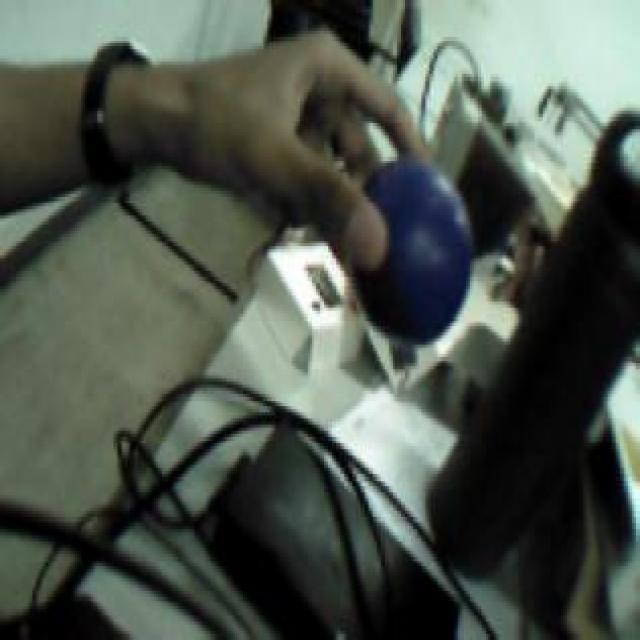BallPurple: (352, 154, 471, 345)
